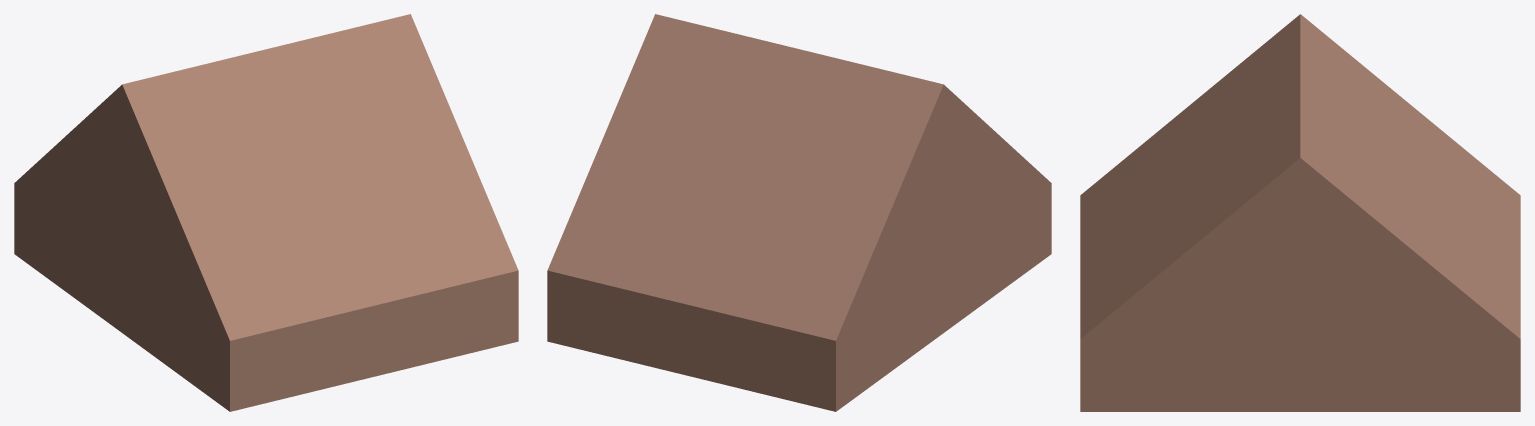
Rendered from ridge_cap_end.glb.
3 views of the same model, side by side, from view 1: azimuth 30°, elevation 25°; view 2: azimuth 150°, elevation 25°; view 3: azimuth 270°, elevation 25° (orthographic). The views are drawn at different scales.
Parts seen in each view (by area): view 1: ridge_cap_end_ridge; view 2: ridge_cap_end_ridge; view 3: ridge_cap_end_ridge.
Part boxes in pixels (left/top/right/bottom): ridge_cap_end_ridge: left=14, top=14, right=518, bottom=411; ridge_cap_end_ridge: left=547, top=14, right=1051, bottom=411; ridge_cap_end_ridge: left=1080, top=14, right=1520, bottom=411.
Size of the model in its own units: 0.34 by 0.28 by 0.44.
